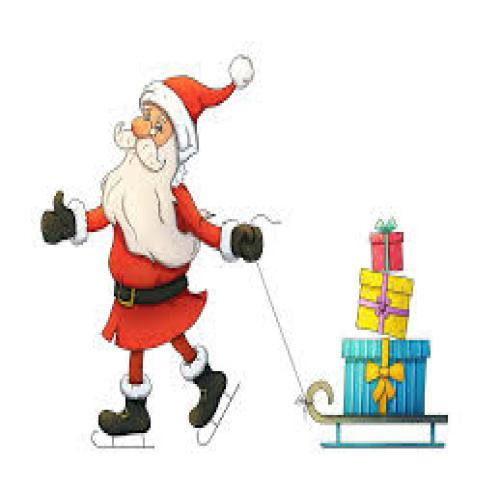Santa: (39, 53, 264, 435)
